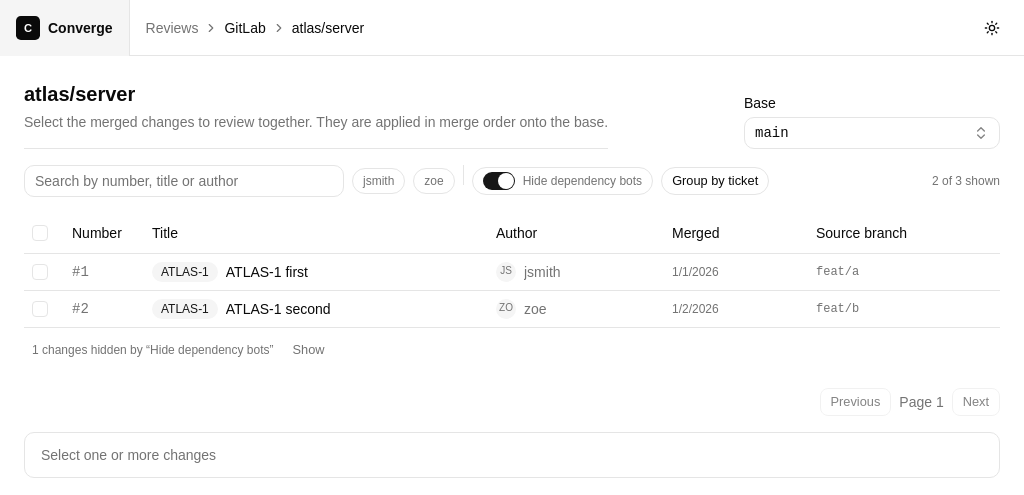
Test case: SelectChangesPage › filters by author chip
Expected: the text "ATLAS-1 first" is shown, [226,262,308,282]
Click the button "zoe". click: [434, 181]
box: [413,168,455,194]
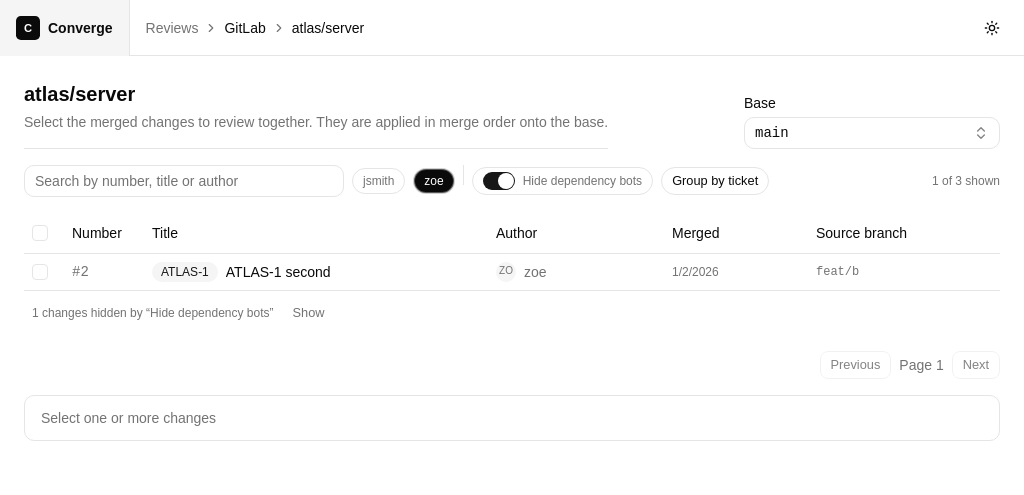
Expected: the text "ATLAS-1 second" is shown, [226,262,331,282]
Now the text "ATLAS-1 first" is gone
